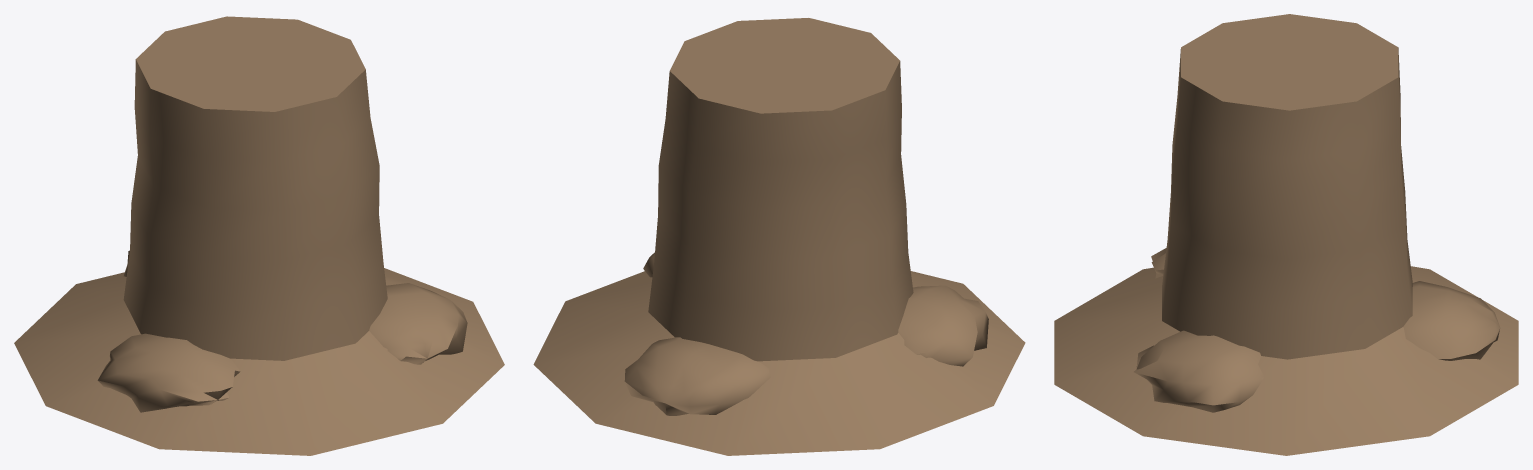
Rendered from prop_tree_stump.glb.
3 renders of one model, left to right at view 1: azimuth 30°, elevation 25°; view 2: azimuth 150°, elevation 25°; view 3: azimuth 270°, elevation 25°, orthographic.
Visible parts, largest first — view 1: prop_tree_stump; view 2: prop_tree_stump; view 3: prop_tree_stump.
Part boxes in pixels (bbox=[...]): prop_tree_stump: bbox=[14, 16, 504, 455]; prop_tree_stump: bbox=[533, 18, 1025, 455]; prop_tree_stump: bbox=[1054, 14, 1518, 455].
Bounding box in the file's own units: 1.11 × 0.7409 × 1.06.
